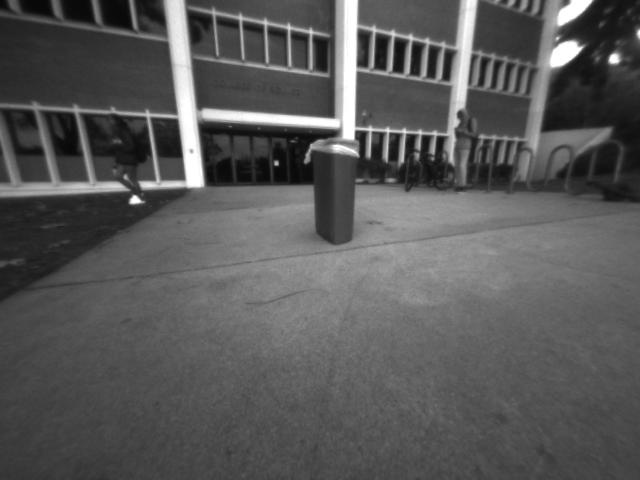trashcan_open: (307, 135, 363, 247)
